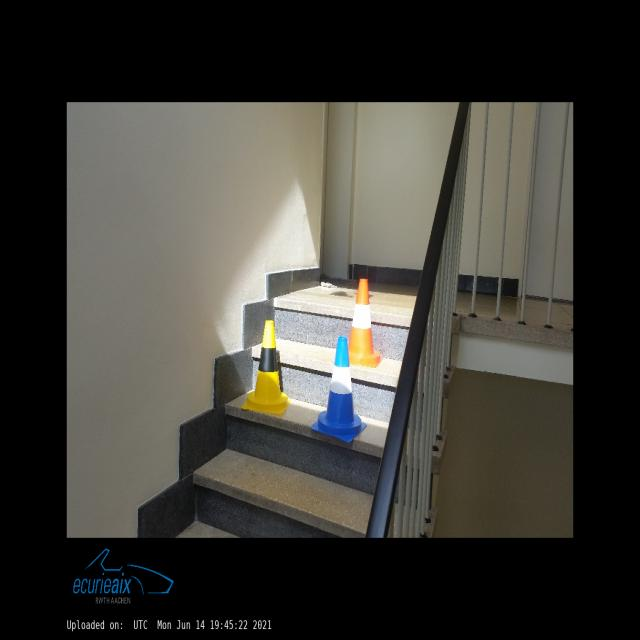blue_cone: (311, 337, 366, 442)
orange_cone: (348, 279, 384, 367)
yellow_cone: (242, 321, 290, 415)
